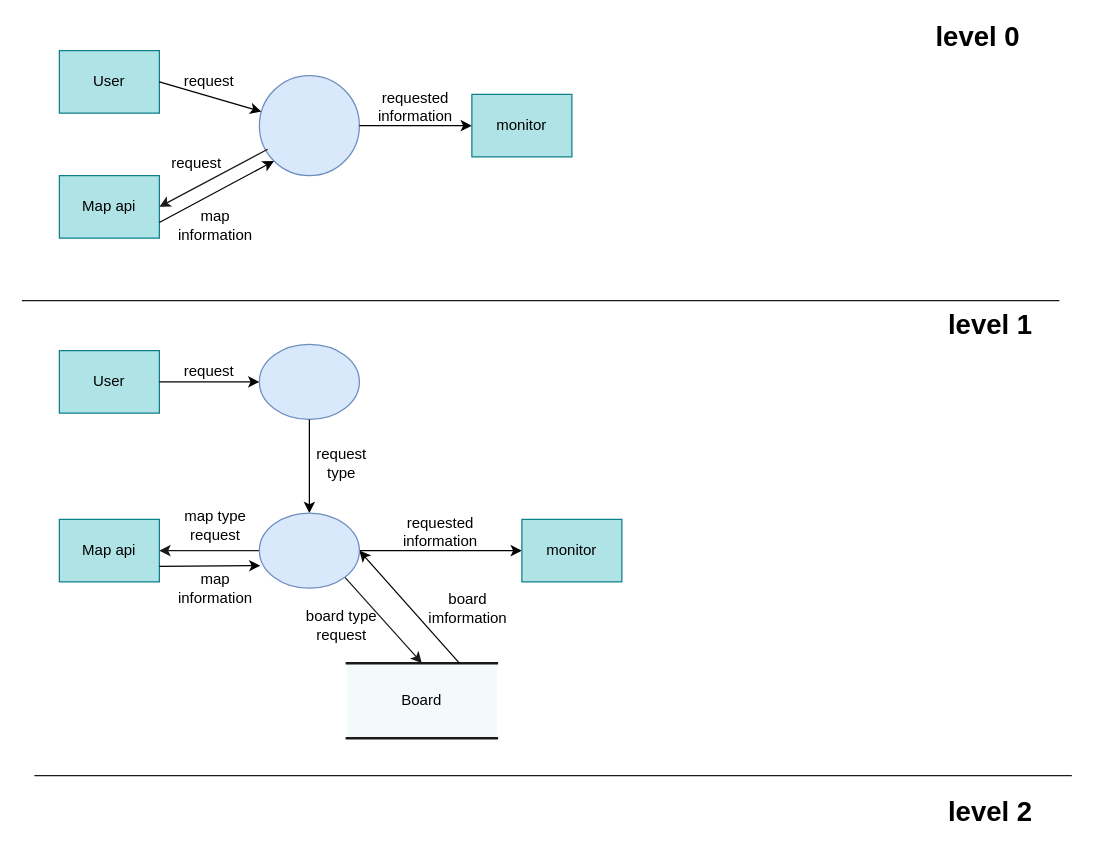
This 1095x850 diagram has some shape labels left out. Each missing label, with the box of its shape:
Judge the type of request: (258, 343, 359, 419)
Send the type of request: (258, 512, 359, 588)
Soongsil Campus Map: (258, 74, 359, 176)
